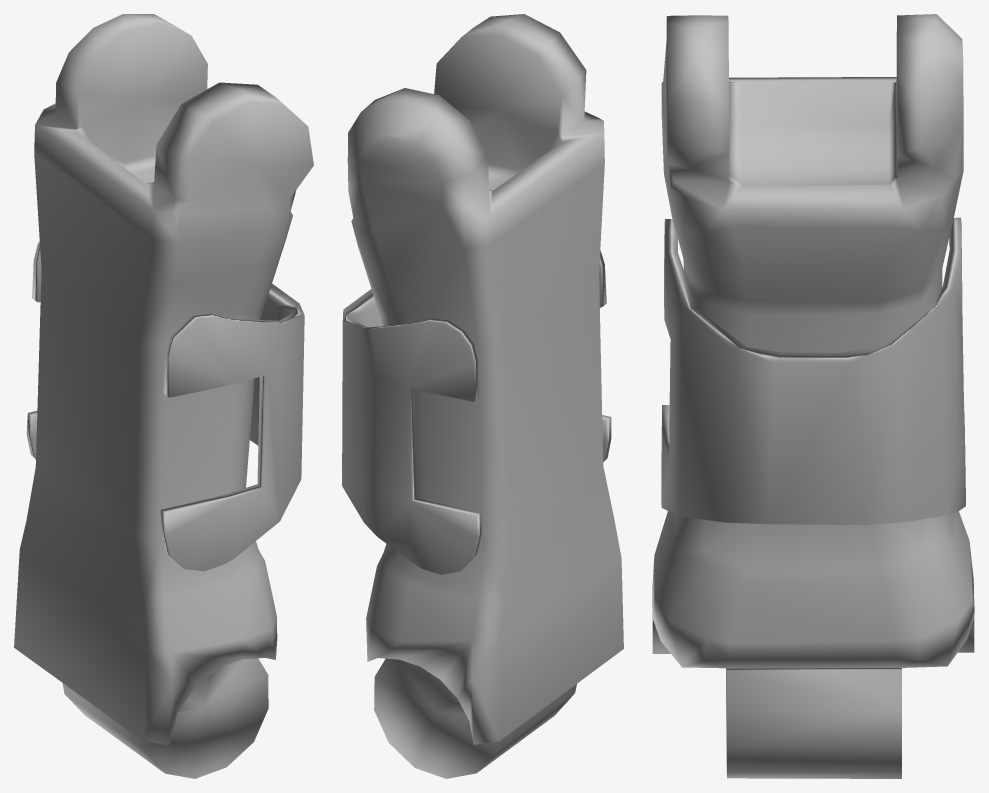
File: Thumb_Proximal.dae
3 views of the same model, side by side, from view 1: azimuth 30°, elevation 25°; view 2: azimuth 150°, elevation 25°; view 3: azimuth 270°, elevation 25° (orthographic). The views are drawn at different scales.
Visible parts, largest first — view 1: Mesh; view 2: Mesh; view 3: Mesh.
Part boxes in pixels (bbox=[...]): Mesh: bbox=[14, 14, 313, 778]; Mesh: bbox=[342, 14, 623, 778]; Mesh: bbox=[652, 14, 974, 778].
Bounding box in the file's own units: 0.0152 × 0.0492 × 0.019.
1 material, 1 textured.
